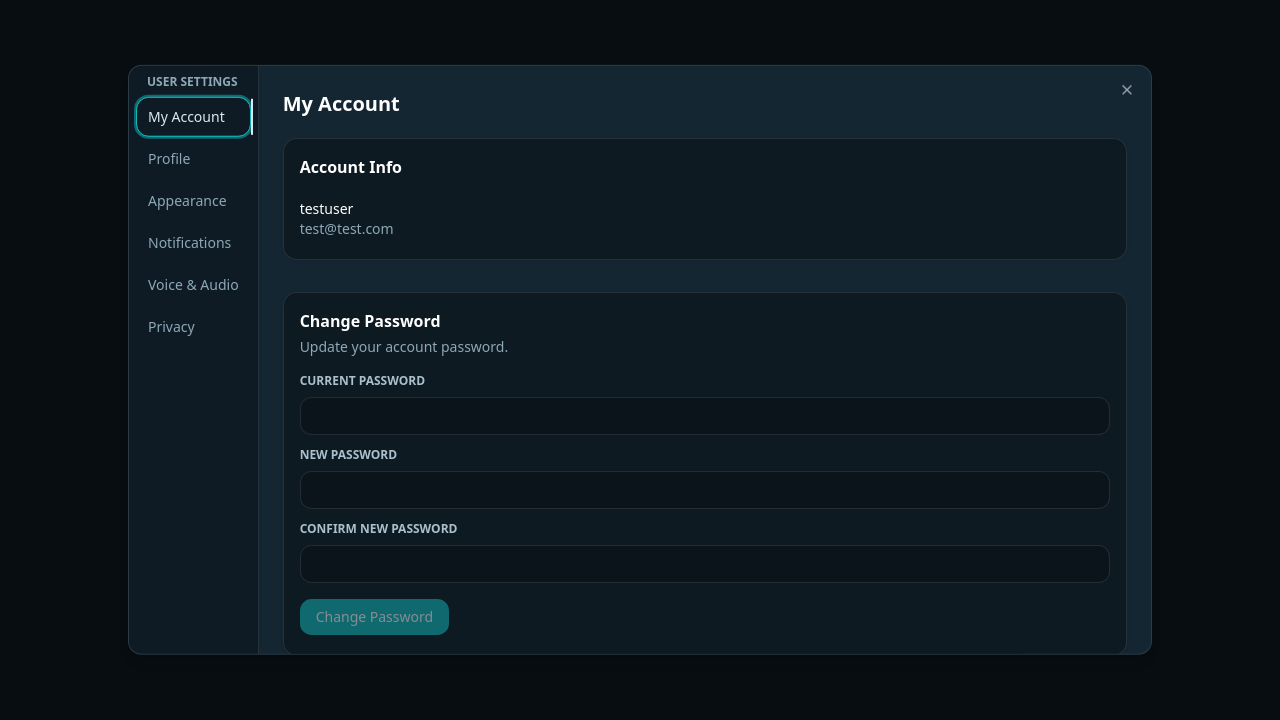
it: UserSettingsOverlay › switches to Profile section on click
The width and height of the screenshot is (1280, 720).
Click the tab "Profile": (193, 159) [137, 140, 250, 178]
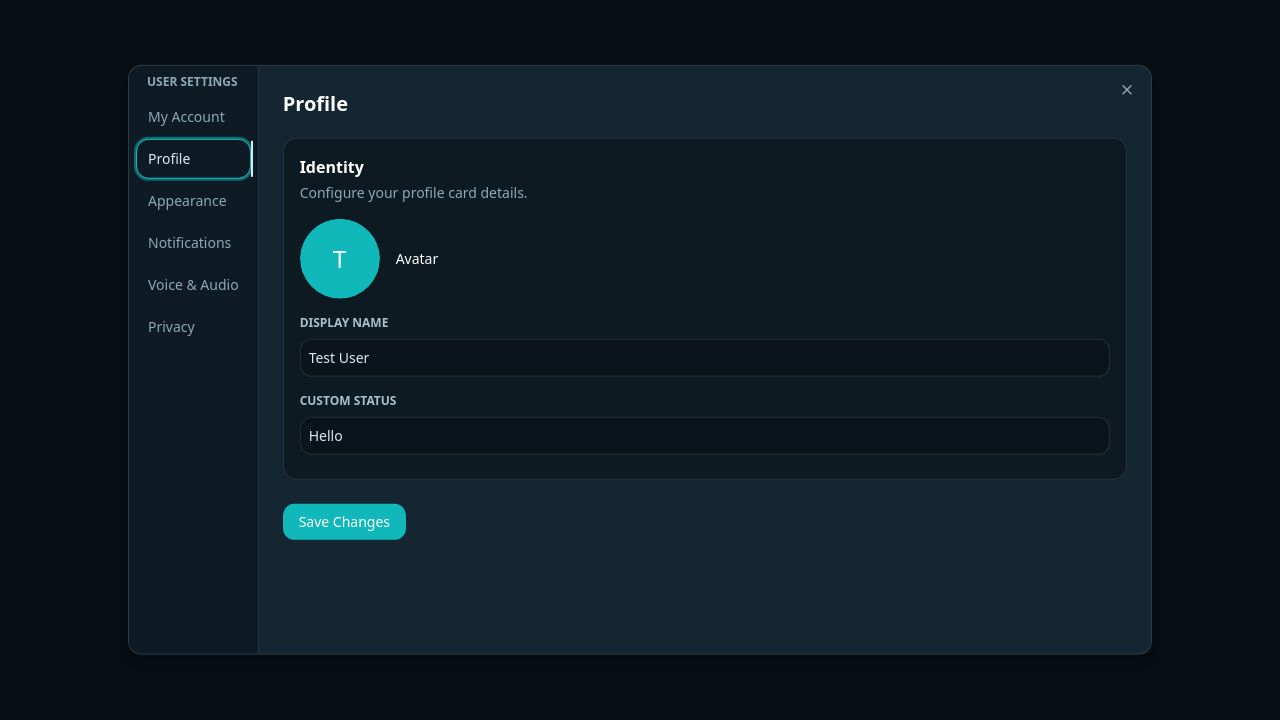
Expected: the text "Display Name" is shown, [300, 315, 1110, 377]
Expected: the text "Custom Status" is shown, [300, 393, 1110, 455]
